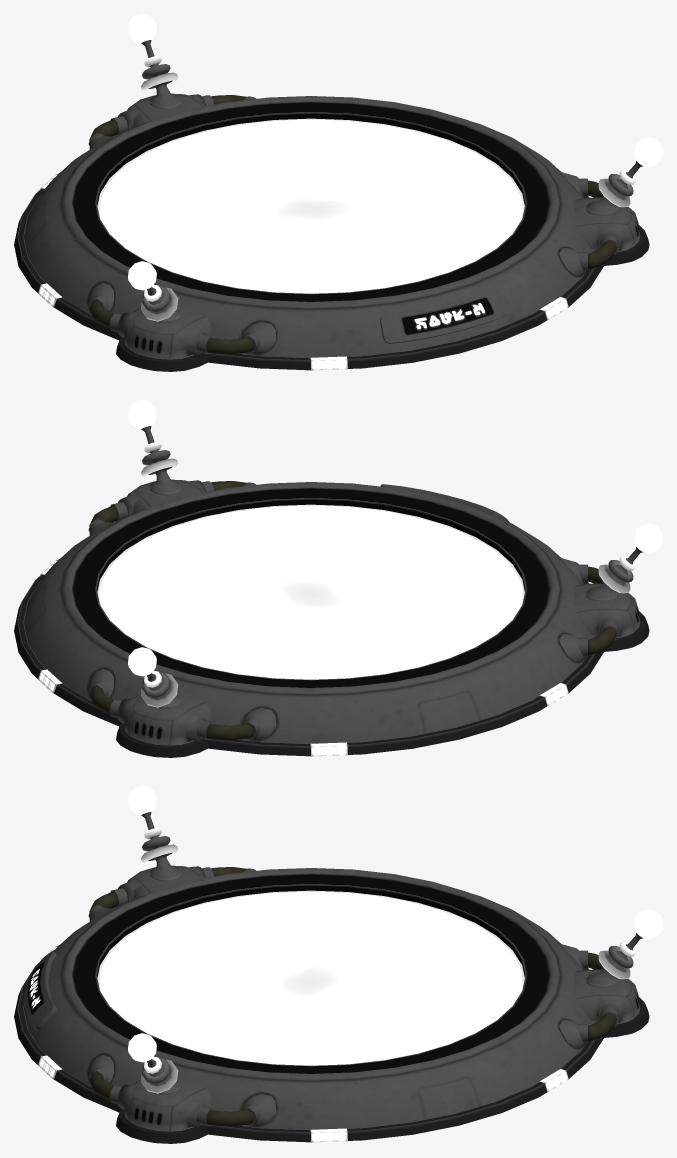
File: splatform.fbx
3 views of the same model, one above another, from view 1: azimuth 30°, elevation 25°; view 2: azimuth 150°, elevation 25°; view 3: azimuth 270°, elevation 25° (orthographic).
Visible parts, largest first — view 1: Obj_RespawnPlatform__M_RespawnPlatform02; view 2: Obj_RespawnPlatform__M_RespawnPlatform02; view 3: Obj_RespawnPlatform__M_RespawnPlatform02.
Part boxes in pixels (<box>): Obj_RespawnPlatform__M_RespawnPlatform02: <box>14,14,662,371</box>; Obj_RespawnPlatform__M_RespawnPlatform02: <box>14,400,662,757</box>; Obj_RespawnPlatform__M_RespawnPlatform02: <box>14,786,662,1143</box>.
Size of the model in its own units: 533 by 101 by 565.
